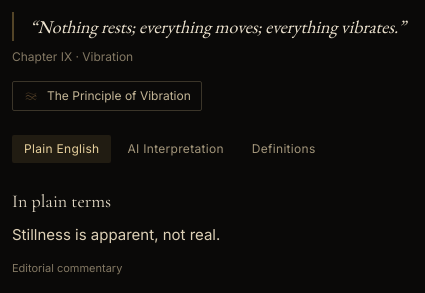
Test case: AnnotationContent › labels AI-generated commentary with model and review status
The width and height of the screenshot is (425, 293).
Step 1. Click the tab "AI Interpretation" → x=176, y=149, box top-left (116, 135), bottom-right (236, 163)
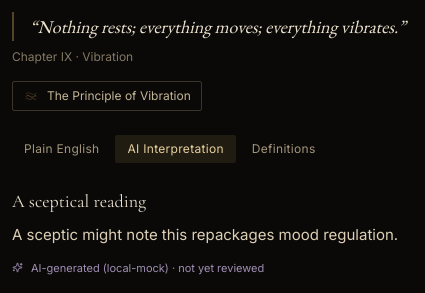
Expected: the text "AI-generated (local-mock) · not yet reviewed" is shown, top-left (31, 260), bottom-right (264, 276)
